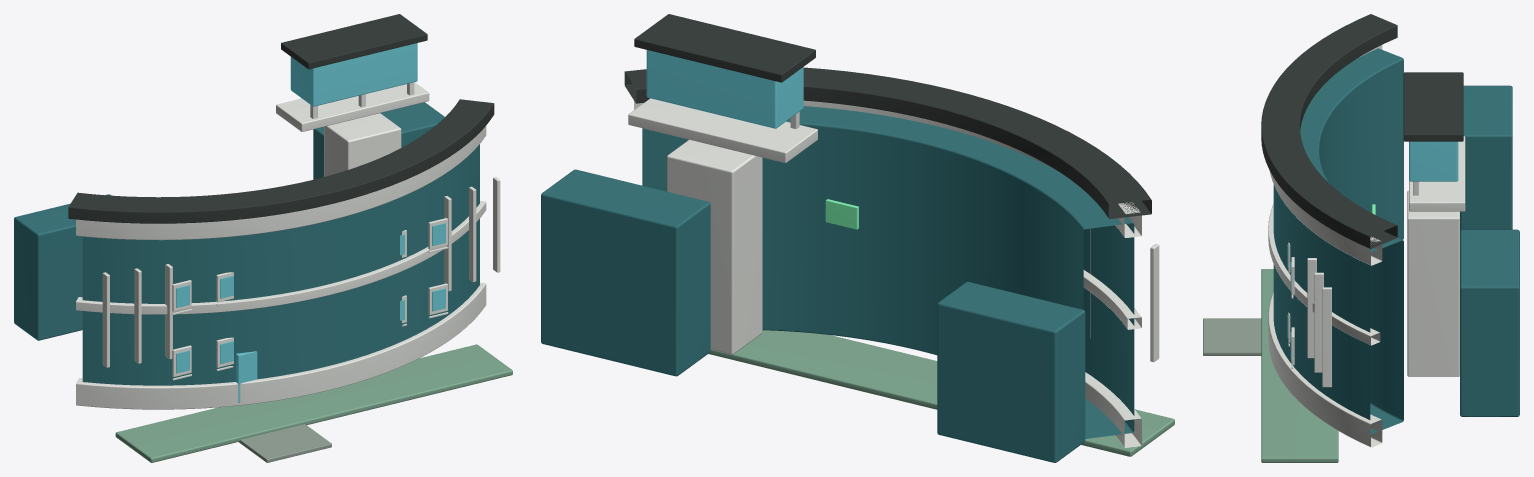
The model's file is sodra.glb.
3 renders of one model, left to right at view 1: azimuth 30°, elevation 25°; view 2: azimuth 150°, elevation 25°; view 3: azimuth 270°, elevation 25°, orthographic. The views are drawn at different scales.
Visible parts, largest first — view 1: LM_Sodra_CurvedGlassFacade, LM_Sodra_OpenGrassForeground, LM_Sodra_AttachedCurvedRoofOverhang, LM_Sodra_LowerWhiteStructuralBand, LM_Sodra_LeftConnectedWing, LM_Sodra_UpperWhiteStructuralBand, LM_Sodra_UpperGlassPavilion, LM_Sodra_PavilionRoof, LM_Sodra_MidFloorBand, LM_Sodra_StructuralCore, LM_Sodra_RoofDeck, LM_Sodra_EntranceWalk (+8 smaller); view 2: LM_Sodra_CurvedGlassFacade, LM_Sodra_RightConnectedWing, LM_Sodra_LeftConnectedWing, LM_Sodra_AttachedCurvedRoofOverhang, LM_Sodra_StructuralCore, LM_Sodra_OpenGrassForeground, LM_Sodra_UpperGlassPavilion, LM_Sodra_PavilionRoof, LM_Sodra_RoofDeck, LM_Sodra_UpperWhiteStructuralBand, LM_Sodra_LowerWhiteStructuralBand, LM_Sodra_AttachedVerticalFin_0 (+2 smaller); view 3: LM_Sodra_CurvedGlassFacade, LM_Sodra_AttachedCurvedRoofOverhang, LM_Sodra_RightConnectedWing, LM_Sodra_StructuralCore, LM_Sodra_LeftConnectedWing, LM_Sodra_OpenGrassForeground, LM_Sodra_PavilionRoof, LM_Sodra_LowerWhiteStructuralBand, LM_Sodra_EntranceWalk, LM_Sodra_UpperGlassPavilion, LM_Sodra_RoofDeck, LM_Sodra_UpperWhiteStructuralBand (+4 smaller).
Boxes of the visible parts, box(x1,y1,x2,y2) form: LM_Sodra_CurvedGlassFacade: box(82, 144, 479, 385); LM_Sodra_OpenGrassForeground: box(115, 344, 512, 462); LM_Sodra_AttachedCurvedRoofOverhang: box(68, 99, 494, 223); LM_Sodra_LowerWhiteStructuralBand: box(76, 282, 486, 409); LM_Sodra_LeftConnectedWing: box(14, 194, 111, 340); LM_Sodra_UpperWhiteStructuralBand: box(76, 126, 486, 240); LM_Sodra_UpperGlassPavilion: box(290, 43, 417, 106); LM_Sodra_PavilionRoof: box(281, 14, 427, 69); LM_Sodra_MidFloorBand: box(76, 200, 486, 314); LM_Sodra_StructuralCore: box(324, 113, 401, 176); LM_Sodra_RoofDeck: box(276, 82, 429, 131); LM_Sodra_EntranceWalk: box(239, 424, 331, 462); LM_Sodra_CurvedGlassFacade: box(642, 106, 1134, 438); LM_Sodra_RightConnectedWing: box(541, 169, 710, 376); LM_Sodra_LeftConnectedWing: box(937, 282, 1085, 462); LM_Sodra_AttachedCurvedRoofOverhang: box(624, 67, 1151, 218); LM_Sodra_StructuralCore: box(667, 139, 762, 354); LM_Sodra_OpenGrassForeground: box(708, 330, 1174, 456); LM_Sodra_UpperGlassPavilion: box(646, 50, 803, 128); LM_Sodra_PavilionRoof: box(634, 14, 815, 82); LM_Sodra_RoofDeck: box(628, 98, 817, 162); LM_Sodra_UpperWhiteStructuralBand: box(634, 100, 1141, 237); LM_Sodra_LowerWhiteStructuralBand: box(1085, 372, 1141, 447); LM_Sodra_AttachedVerticalFin_0: box(1150, 244, 1159, 362); LM_Sodra_CurvedGlassFacade: box(1273, 48, 1403, 434); LM_Sodra_AttachedCurvedRoofOverhang: box(1261, 14, 1397, 248); LM_Sodra_RightConnectedWing: box(1460, 229, 1519, 416); LM_Sodra_StructuralCore: box(1407, 190, 1459, 376); LM_Sodra_LeftConnectedWing: box(1460, 85, 1512, 230); LM_Sodra_OpenGrassForeground: box(1261, 269, 1338, 462); LM_Sodra_PavilionRoof: box(1403, 72, 1463, 141); LM_Sodra_LowerWhiteStructuralBand: box(1268, 292, 1382, 447); LM_Sodra_EntranceWalk: box(1203, 318, 1261, 355); LM_Sodra_UpperGlassPavilion: box(1409, 141, 1458, 181); LM_Sodra_RoofDeck: box(1409, 136, 1465, 211); LM_Sodra_UpperWhiteStructuralBand: box(1269, 45, 1382, 265).
Bounding box in the file's own units: 3 × 2.01 × 1.8.
